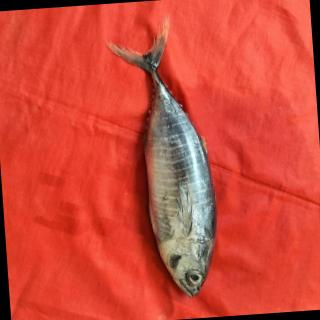Ikan: (103, 18, 235, 310)
